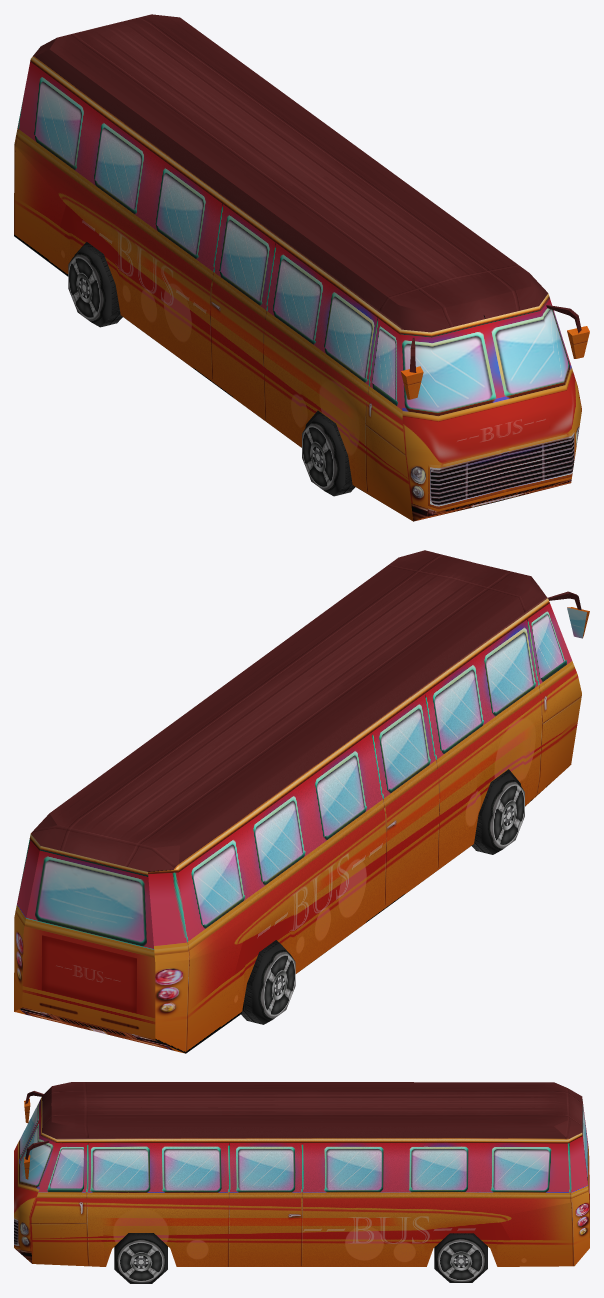
The model's file is BUS_01.fbx.
3 views of the same model, one above another, from view 1: azimuth 30°, elevation 25°; view 2: azimuth 150°, elevation 25°; view 3: azimuth 270°, elevation 25° (orthographic). The views are drawn at different scales.
Visible parts, largest first — view 1: Body1, Wheels3, Wheels4; view 2: Body1, Wheels3, Wheels4; view 3: Body1, Wheels2, Wheels1.
Boxes of the visible parts, bbox=[...] form: Body1: bbox=[14, 14, 589, 521]; Wheels3: bbox=[68, 244, 122, 327]; Wheels4: bbox=[302, 413, 355, 496]; Body1: bbox=[14, 550, 589, 1053]; Wheels3: bbox=[241, 941, 295, 1024]; Wheels4: bbox=[472, 772, 524, 854]; Body1: bbox=[14, 1082, 589, 1266]; Wheels2: bbox=[114, 1233, 167, 1283]; Wheels1: bbox=[434, 1233, 487, 1282].
Bounding box in the file's own units: 3.74 × 4.07 × 13.98.
Materials: 1 (1 with a texture image).
